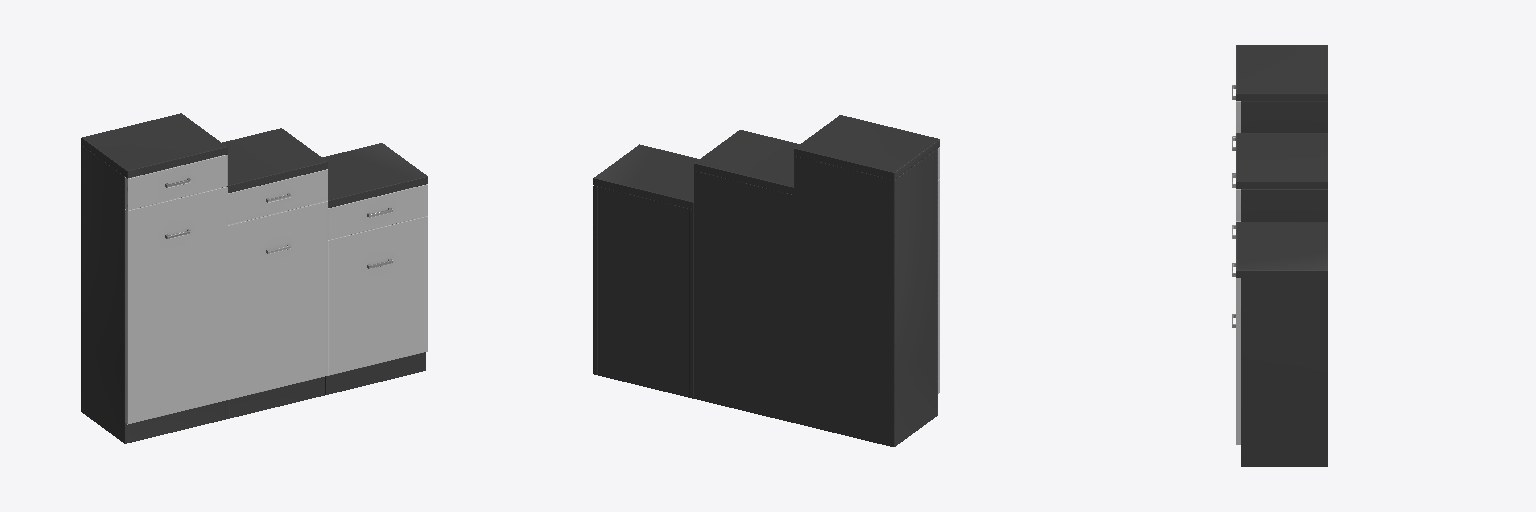
3 renders of one model, left to right at view 1: azimuth 30°, elevation 25°; view 2: azimuth 150°, elevation 25°; view 3: azimuth 270°, elevation 25°, orthographic.
Parts seen in each view (by area): view 1: solid_002, solid_001, solid_003; view 2: solid_001; view 3: solid_001, solid_002.
Boxes of the visible parts, x1,y1,x2,y2 form: solid_002: [125, 155, 427, 424]; solid_001: [81, 113, 427, 443]; solid_003: [165, 178, 392, 268]; solid_001: [593, 115, 939, 446]; solid_001: [1236, 45, 1327, 466]; solid_002: [1236, 101, 1240, 444].
Size of the model in its own units: 1.2 by 1.05 by 0.3351.
Materials: 1 (1 with a texture image).